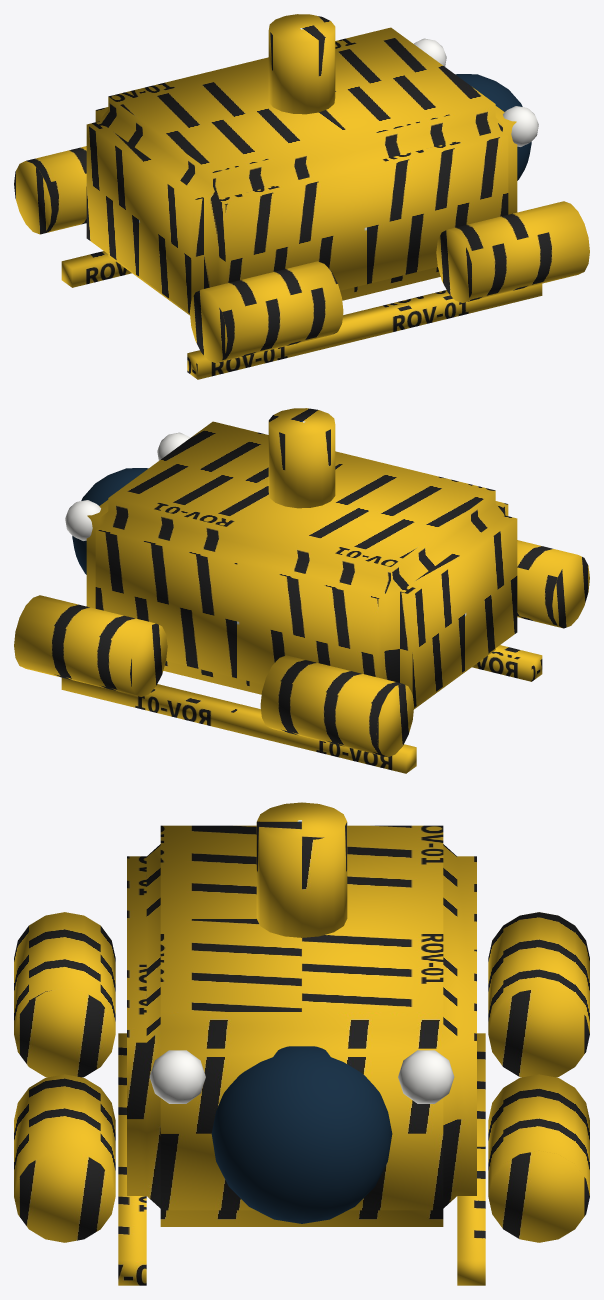
The model's file is dron.fbx.
3 views of the same model, one above another, from view 1: azimuth 30°, elevation 25°; view 2: azimuth 150°, elevation 25°; view 3: azimuth 270°, elevation 25° (orthographic). The views are drawn at different scales.
Visible parts, largest first — view 1: dron; view 2: dron; view 3: dron.
Part boxes in pixels (x1,y1,x2,y2): dron: [14, 14, 589, 379]; dron: [14, 408, 589, 773]; dron: [14, 802, 589, 1285].
Bounding box in the file's own units: 1 × 0.6171 × 0.9189.
Materials: 1 (1 with a texture image).
